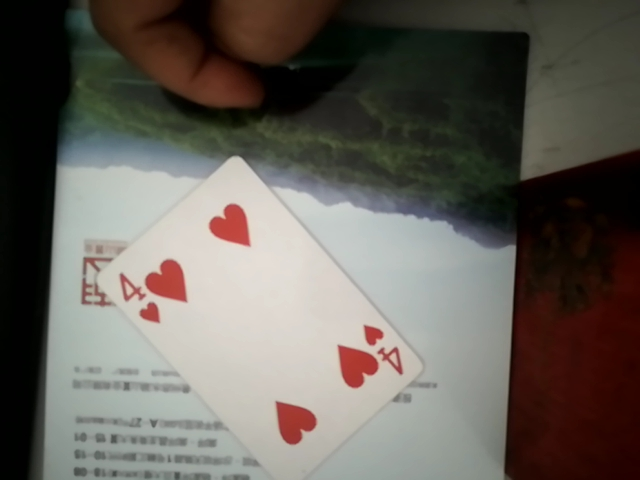hx 4: (59, 153, 430, 479)
